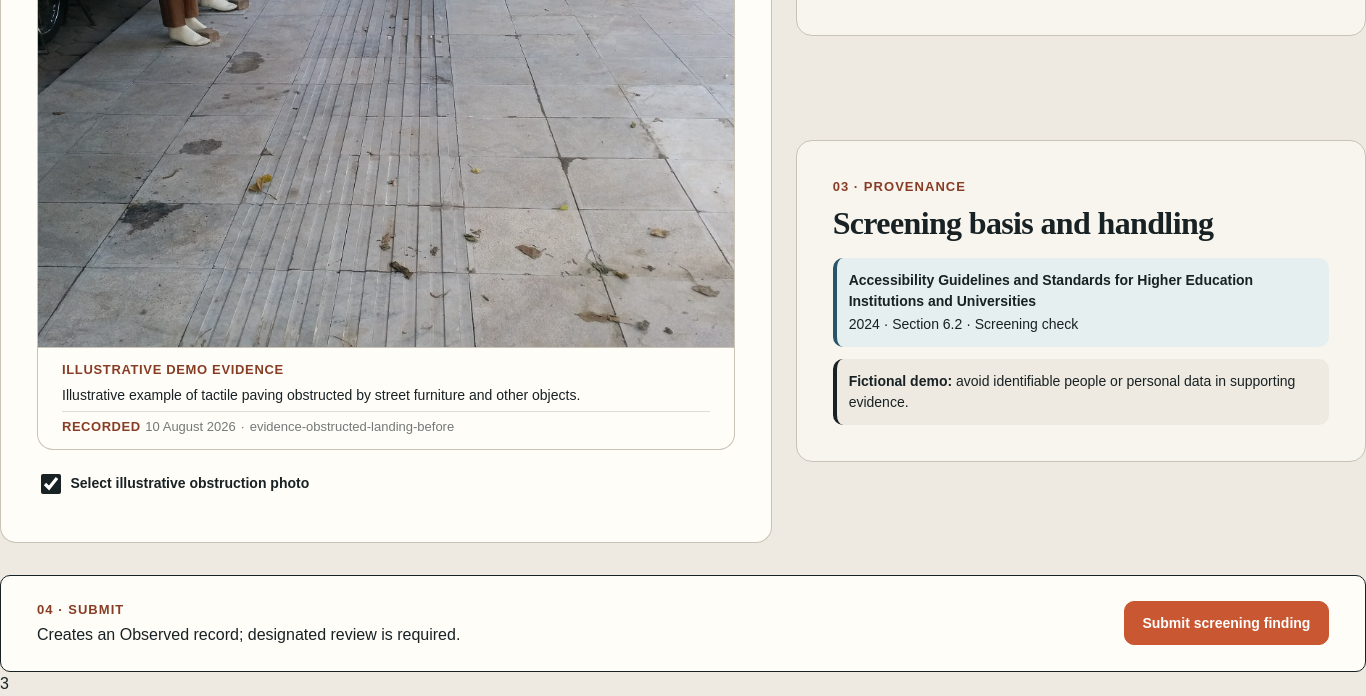
Test case: guided audit › focuses an error summary when required evidence is deselected
(page scrolled)
Click the checkbox labelled "Select illustrative obstruction photo" at (51, 484), box [41,474,61,494]
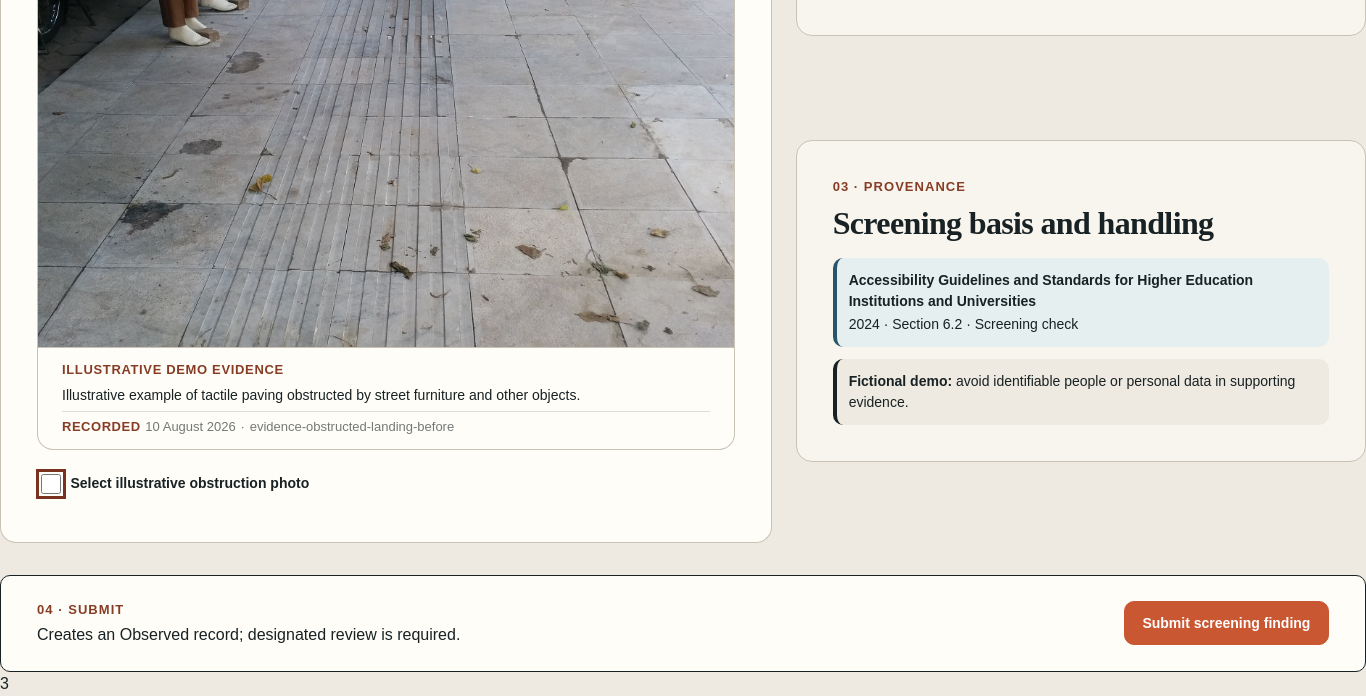
Click the button "Submit screening finding" at (1226, 623), box [1124,601,1329,645]
(page scrolled)
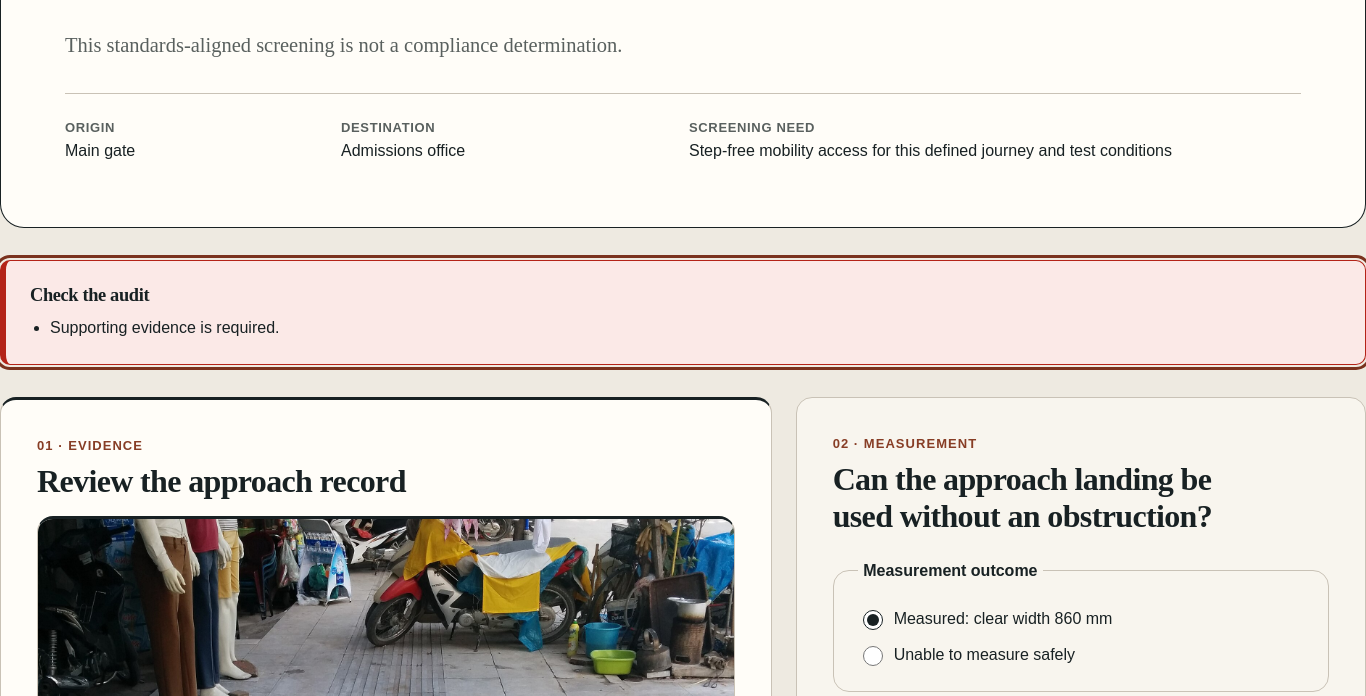
Expected: the message shows "Supporting evidence is required", [50,319,280,336]
